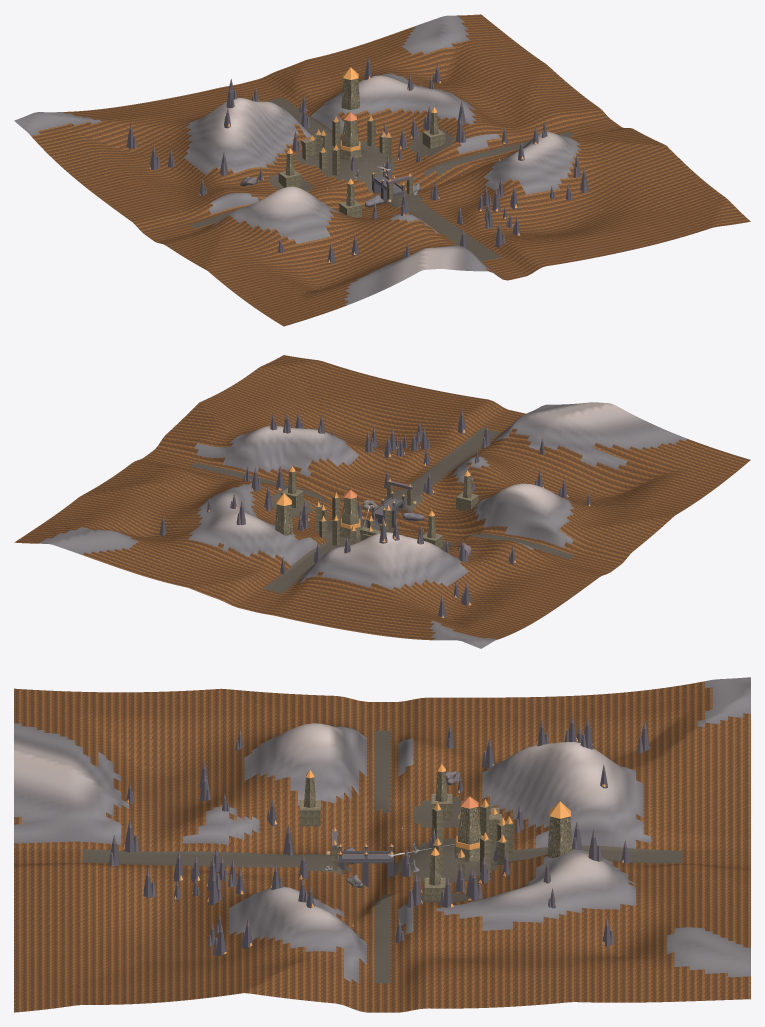
File: world.glb
3 renders of one model, top to bottom at view 1: azimuth 30°, elevation 25°; view 2: azimuth 150°, elevation 25°; view 3: azimuth 270°, elevation 25°, orthographic. The views are drawn at different scales.
Parts seen in each view (by area): view 1: cinderfall_Terrain, cinderfall_ImportedCatalogAndFlora, cinderfall_Roads, cinderfall_Masonry; view 2: cinderfall_Terrain, cinderfall_ImportedCatalogAndFlora, cinderfall_Roads, cinderfall_Masonry; view 3: cinderfall_Terrain, cinderfall_ImportedCatalogAndFlora, cinderfall_Roads, cinderfall_Masonry.
Part boxes in pixels (x1,y1,x2,y2): cinderfall_Terrain: (31,14,750,326); cinderfall_ImportedCatalogAndFlora: (14,15,588,305); cinderfall_Roads: (190,97,574,261); cinderfall_Masonry: (278,78,445,217); cinderfall_Terrain: (14,355,750,640); cinderfall_ImportedCatalogAndFlora: (39,402,687,648); cinderfall_Roads: (190,428,574,593); cinderfall_Masonry: (275,471,478,547); cinderfall_Terrain: (14,681,750,1012); cinderfall_ImportedCatalogAndFlora: (14,677,750,983); cinderfall_Roads: (83,730,681,983); cinderfall_Masonry: (299,771,572,900).
Bounding box in the file's own units: 224 × 39.8 × 224.
4 materials, 3 textured.
